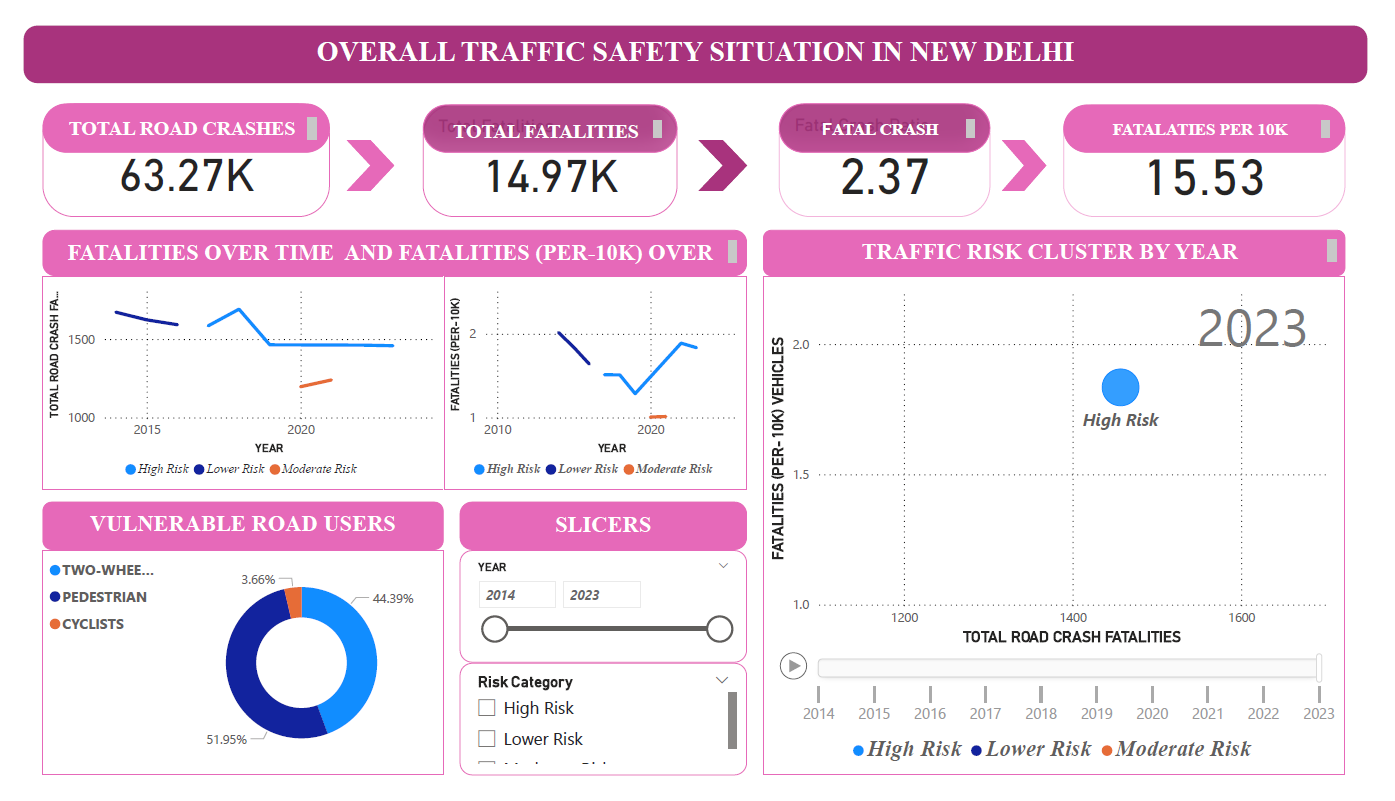

The dashboard page shown, as its layout file describes it:
{"tool":"powerbi","page":{"name":"Page 1","canvas":[1280,720],"ordinal":0},"visuals":[{"type":"card","title":"Total Road Crashes","fields":{"Values":["Sum(master_yearly_with_clusters.road_crashes)"]},"box":[20,75.7,272.9,108.6],"z":0},{"type":"card","title":"Total Fatalities","fields":{"Values":["Sum(master_yearly_with_clusters.road_crash_fatalities)"]},"box":[381.4,77.1,241.4,107.1],"z":1000},{"type":"card","title":"Fatal Crash Ratio","fields":{"Values":["Sum(master_yearly_with_clusters.fatal_crash_ratio)"]},"box":[718.6,75.7,201.4,108.6],"z":2000},{"type":"card","title":"Fatalities per 10k Vehicles","fields":{"Values":["Sum(master_yearly_with_clusters.Fatalities per  10k vehicles)"]},"box":[988.6,77.1,268.6,107.1],"z":3000},{"type":"textbox","box":[0,249.7,238.8,59],"z":4000},{"type":"textbox","box":[20,75.7,272.9,47.1],"z":5000},{"type":"textbox","box":[381.4,77.1,241.4,45.7],"z":6000},{"type":"textbox","box":[718.6,75.7,201.4,47.1],"z":7000},{"type":"textbox","box":[988.6,77.1,268.6,45.7],"z":8000},{"type":"slicer","fields":{"Values":["master_yearly_with_clusters.risk_category"]},"box":[415.7,607.1,272.9,107.1],"z":9000},{"type":"lineChart","fields":{"Category":["master_yearly_with_clusters.year"],"Y":["Sum(master_yearly_with_clusters.road_crash_fatalities)"],"Series":["master_yearly_with_clusters.risk_category"]},"box":[20,240,381.4,202.9],"z":10000},{"type":"lineChart","fields":{"Category":["master_yearly_with_clusters.year"],"Y":["Sum(master_yearly_with_clusters.Fatalities per  10k vehicles)"],"Series":["master_yearly_with_clusters.risk_category"]},"box":[401.4,240,287.1,202.9],"z":11000},{"type":"donutChart","fields":{"Y":["Sum(master_yearly_with_clusters.scooter_motorcycle_riders_killed)","Sum(master_yearly_with_clusters.pedestrian_killed)","Sum(master_yearly_with_clusters.cyclists_killed)"]},"box":[20,500,381.4,214.3],"z":12000},{"type":"scatterChart","fields":{"X":["Sum(master_yearly_with_clusters.road_crash_fatalities)"],"Y":["Sum(master_yearly_with_clusters.Fatalities per  10k vehicles)"],"Size":["Sum(master_yearly_with_clusters.road_crashes)"],"Series":["master_yearly_with_clusters.risk_category"],"Play":["master_yearly_with_clusters.year"]},"box":[704.3,240,552.9,474.3],"z":13000},{"type":"textbox","box":[20,195.7,668.6,44.3],"z":14000},{"type":"slicer","fields":{"Values":["master_yearly_with_clusters.year"]},"box":[415.7,500,272.9,107.1],"z":15000},{"type":"textbox","box":[415.7,454.3,272.9,45.7],"z":16000},{"type":"textbox","box":[20,454.3,381.4,45.7],"z":17000},{"type":"shape","box":[308.6,111.4,45.7,47.1],"z":18000},{"type":"shape","box":[642.9,111.4,45.7,47.1],"z":19000},{"type":"shape","box":[931.4,111.4,41.4,47.1],"z":20000},{"type":"textbox","box":[704.3,195.7,552.9,44.3],"z":21000},{"type":"textbox","box":[0,0,1280,58.6],"z":22000}]}

Visuals, with their boxes in screenshot pixels (x1, y1, x2, y2), scaled from the page's 1280x720 canvas onto the 1395x801 screenshot:
"Total Road Crashes" card: BBox(22, 84, 319, 205)
"Total Fatalities" card: BBox(416, 86, 679, 205)
"Fatal Crash Ratio" card: BBox(783, 84, 1003, 205)
"Fatalities per 10k Vehicles" card: BBox(1077, 86, 1370, 205)
textbox: BBox(0, 278, 260, 343)
textbox: BBox(22, 84, 319, 137)
textbox: BBox(416, 86, 679, 137)
textbox: BBox(783, 84, 1003, 137)
textbox: BBox(1077, 86, 1370, 137)
slicer - master_yearly_with_clusters.risk_category: BBox(453, 675, 750, 795)
lineChart - master_yearly_with_clusters.year x Sum(master_yearly_with_clusters.road_crash_fatalities): BBox(22, 267, 437, 493)
lineChart - master_yearly_with_clusters.year x Sum(master_yearly_with_clusters.Fatalities per  10k vehicles): BBox(437, 267, 750, 493)
donutChart - Sum(master_yearly_with_clusters.scooter_motorcycle_riders_killed) x Sum(master_yearly_with_clusters.pedestrian_killed): BBox(22, 556, 437, 795)
scatterChart - Sum(master_yearly_with_clusters.road_crash_fatalities) x Sum(master_yearly_with_clusters.Fatalities per  10k vehicles): BBox(768, 267, 1370, 795)
textbox: BBox(22, 218, 750, 267)
slicer - master_yearly_with_clusters.year: BBox(453, 556, 750, 675)
textbox: BBox(453, 505, 750, 556)
textbox: BBox(22, 505, 437, 556)
shape: BBox(336, 124, 386, 176)
shape: BBox(701, 124, 750, 176)
shape: BBox(1015, 124, 1060, 176)
textbox: BBox(768, 218, 1370, 267)
textbox: BBox(0, 0, 1394, 65)
